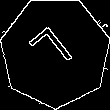L_SE: (28, 23, 82, 82)
